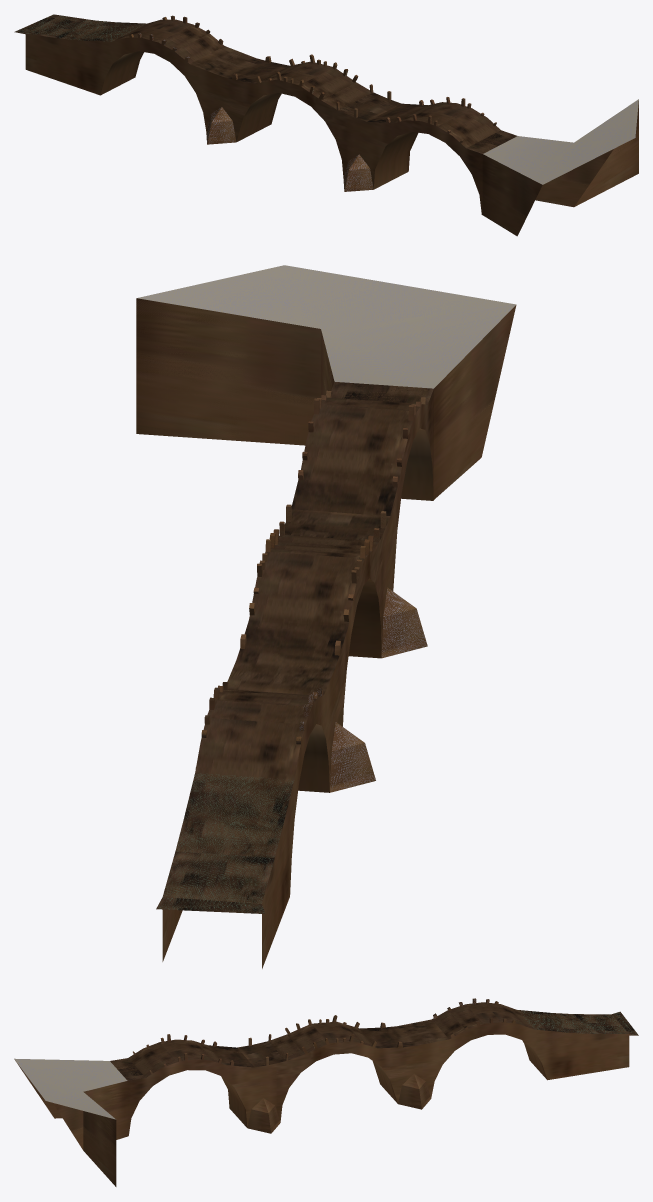
Rendered from bridge.fbx.
3 views of the same model, one above another, from view 1: azimuth 30°, elevation 25°; view 2: azimuth 150°, elevation 25°; view 3: azimuth 270°, elevation 25° (orthographic). The views are drawn at different scales.
Parts seen in each view (by area): view 1: Group_4_1, Group4, Group6, Group3, Group_4_2, Group5, Group_3_1, Group_3_2; view 2: Group4, Group6, Group5, Group_4_1, Group3, Group_4_2, Group_3_1, Group_3_2; view 3: Group_4_2, Group4, Group6, Group5, Group3, Group_3_4, Group_3_3, Group_4_1.
Boxes of the visible parts, x1=… form: Group_4_1: x1=25, y1=33, x2=542, y2=236; Group4: x1=14, y1=14, x2=500, y2=148; Group6: x1=466, y1=99, x2=638, y2=184; Group3: x1=100, y1=51, x2=418, y2=189; Group_4_2: x1=162, y1=15, x2=613, y2=207; Group5: x1=574, y1=101, x2=638, y2=206; Group_3_1: x1=206, y1=107, x2=236, y2=144; Group_3_2: x1=343, y1=154, x2=373, y2=191; Group4: x1=156, y1=397, x2=422, y2=913; Group6: x1=137, y1=265, x2=516, y2=404; Group5: x1=136, y1=298, x2=320, y2=445; Group_4_1: x1=262, y1=305, x2=516, y2=968; Group3: x1=298, y1=428, x2=433, y2=792; Group_4_2: x1=162, y1=330, x2=334, y2=961; Group_3_1: x1=330, y1=722, x2=375, y2=792; Group_3_2: x1=381, y1=587, x2=427, y2=658; Group_4_2: x1=53, y1=1017, x2=629, y2=1149; Group4: x1=128, y1=1002, x2=638, y2=1077; Group6: x1=14, y1=1058, x2=145, y2=1119; Group5: x1=83, y1=1111, x2=116, y2=1186; Group3: x1=221, y1=1041, x2=546, y2=1127; Group_3_4: x1=247, y1=1098, x2=280, y2=1133; Group_3_3: x1=398, y1=1074, x2=430, y2=1109; Group_4_1: x1=15, y1=998, x2=498, y2=1118.
Size of the model in its own units: 37.69 by 9.56 by 64.45.
